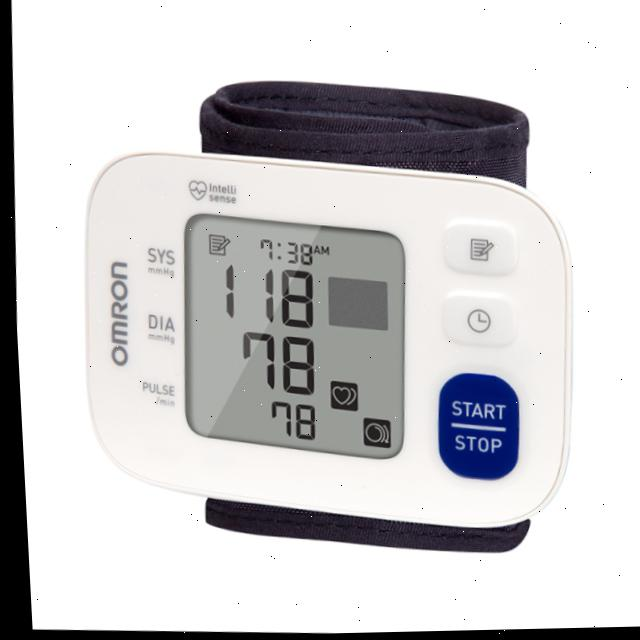dia: (226, 327, 324, 401)
pul: (255, 393, 324, 446)
ssd: (162, 216, 418, 463)
sys: (202, 256, 323, 335)
